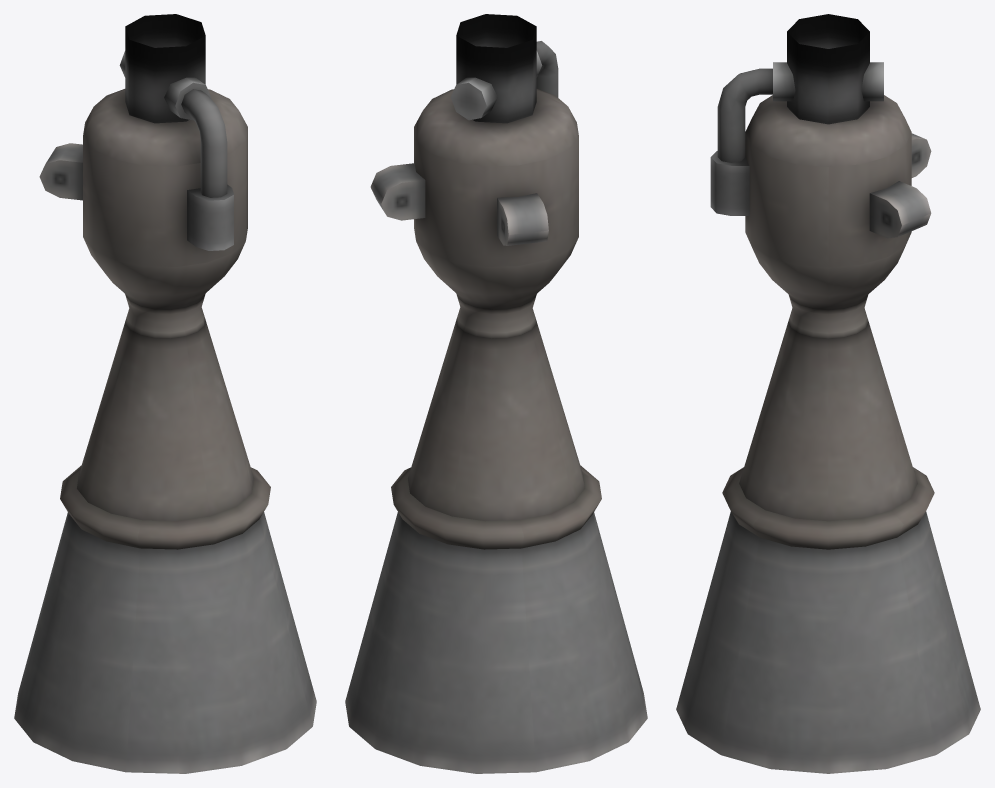
File: arrow_engine_s0p5_2_nozzle.obj
The picture shows the model from 3 angles, left to right: view 1: azimuth 30°, elevation 25°; view 2: azimuth 150°, elevation 25°; view 3: azimuth 270°, elevation 25°; orthographic projection.
Parts seen in each view (by area): view 1: nozzle2; view 2: nozzle2; view 3: nozzle2.
Part boxes in pixels (x1=…): nozzle2: x1=14, y1=14, x2=316, y2=773; nozzle2: x1=345, y1=14, x2=647, y2=773; nozzle2: x1=676, y1=14, x2=980, y2=773.
Size of the model in its own units: 0.275 by 0.675 by 0.275.
1 material, 1 textured.
